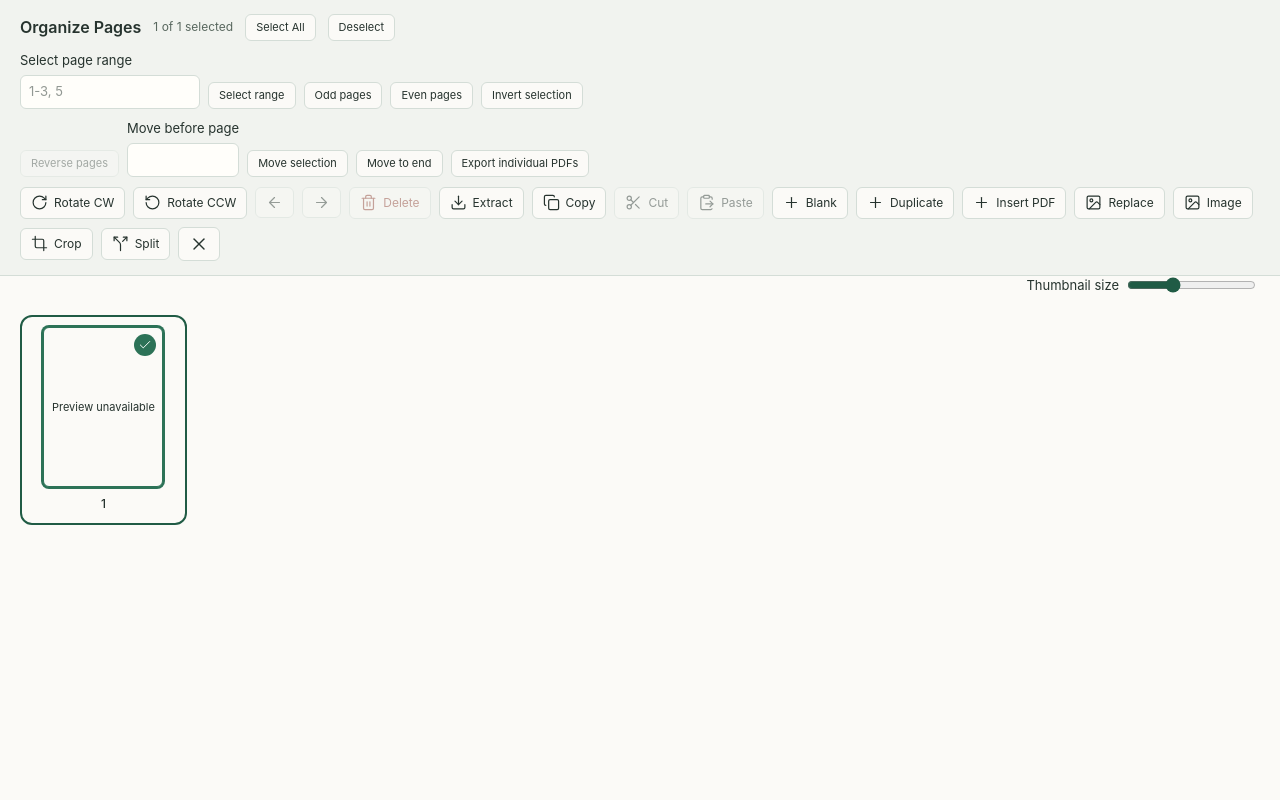
Scenario: page workflow controls › disables a single-page reverse and empty selected export
Expected: the button "Reverse pages" is disabled, [20,150,119,176]
What coordinates should you click on to do the following:
click the button "Deselect"
I would click on:
 (361, 27)
Its box is [328,14,395,40].
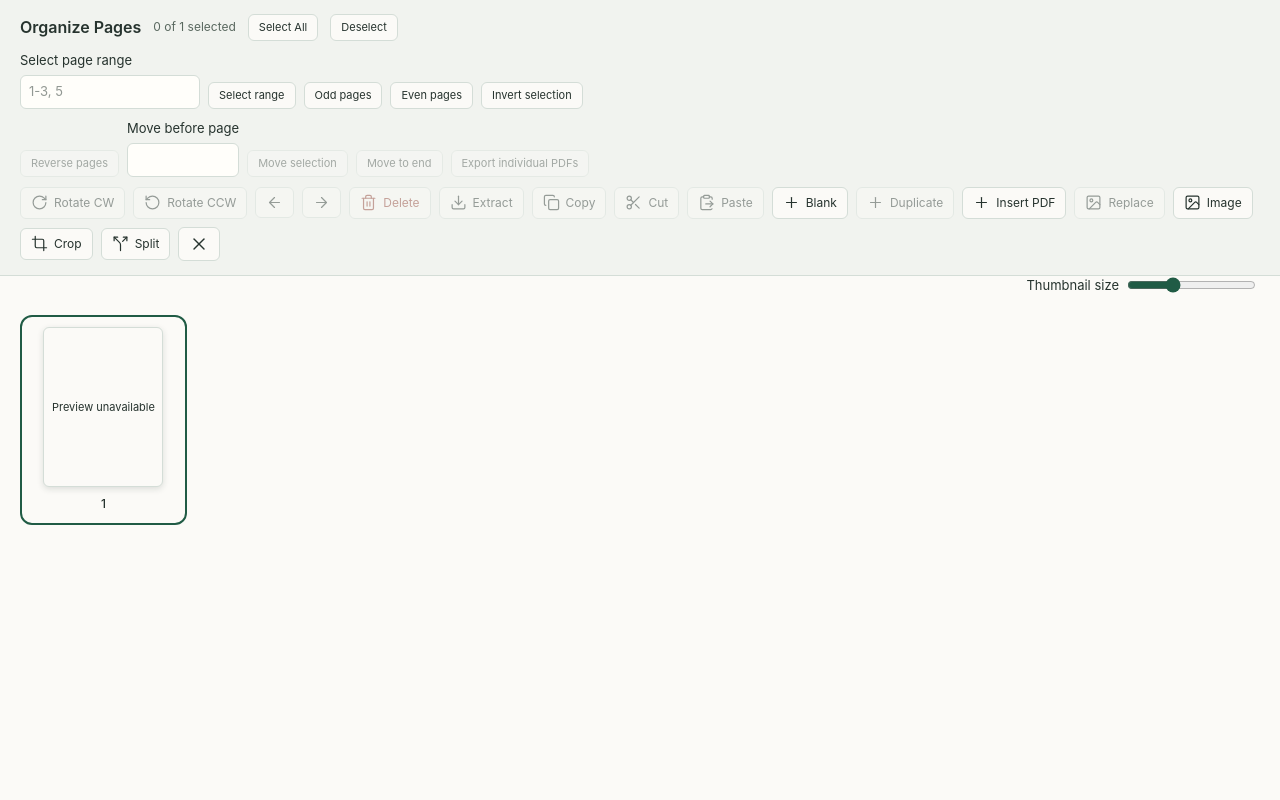
Now the button "Export individual PDFs" is disabled, box [450,150,589,176]
